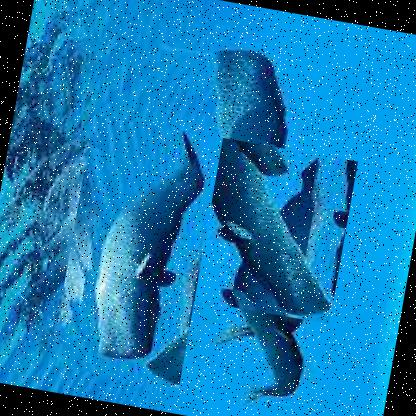sperm_whale: (50, 114, 224, 388), (158, 130, 358, 324)
